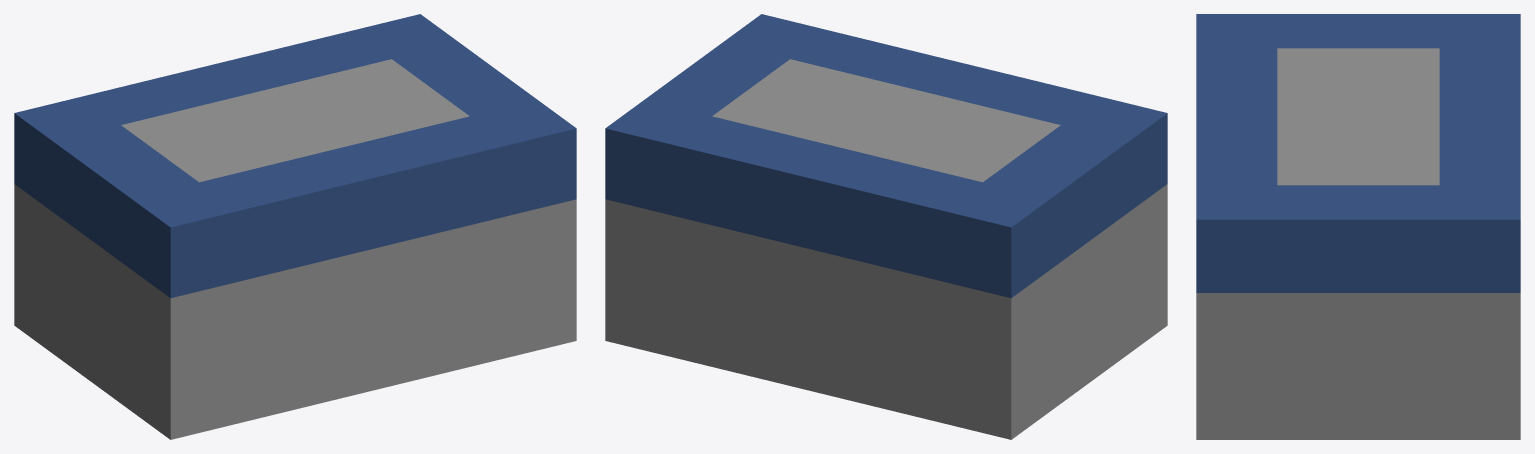
Rendered from ContainerLarge.obj.
3 views of the same model, side by side, from view 1: azimuth 30°, elevation 25°; view 2: azimuth 150°, elevation 25°; view 3: azimuth 270°, elevation 25° (orthographic). The views are drawn at different scales.
Parts seen in each view (by area): view 1: ContainerLarge; view 2: ContainerLarge; view 3: ContainerLarge.
Boxes of the visible parts, x1,y1,x2,y2 form: ContainerLarge: [14, 14, 576, 439]; ContainerLarge: [605, 14, 1167, 439]; ContainerLarge: [1196, 14, 1520, 439].
Bounding box in the file's own units: 6 × 3 × 4.
Materials: 1 (1 with a texture image).
